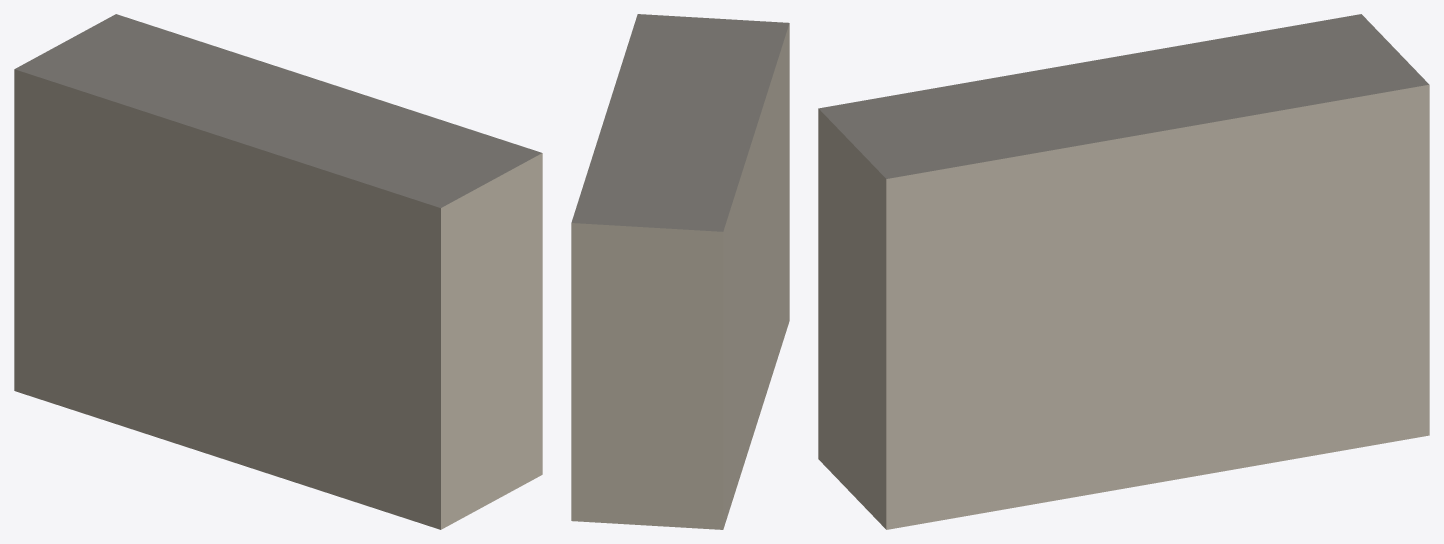
3 views of the same model, side by side, from view 1: azimuth 30°, elevation 25°; view 2: azimuth 150°, elevation 25°; view 3: azimuth 270°, elevation 25° (orthographic). The views are drawn at different scales.
Parts seen in each view (by area): view 1: HP-w1217015645; view 2: HP-w1217015645; view 3: HP-w1217015645.
Part boxes in pixels (<box>): HP-w1217015645: <box>14,14,542,529</box>; HP-w1217015645: <box>571,14,789,529</box>; HP-w1217015645: <box>818,14,1429,529</box>.
Bounding box in the file's own units: 18.16 × 18 × 28.41.
